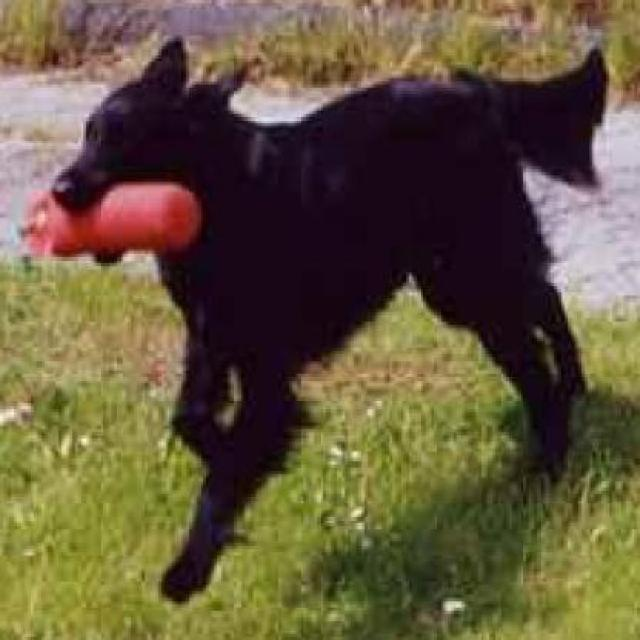Dog: (52, 38, 614, 604)
